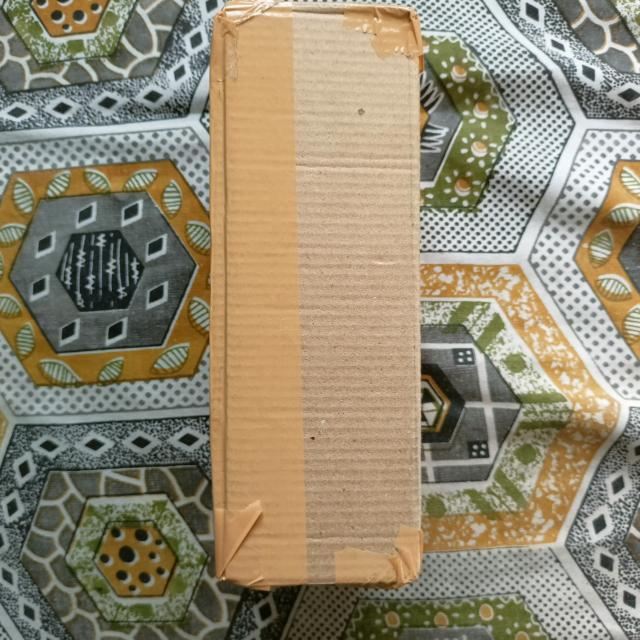box: (211, 15, 424, 585)
